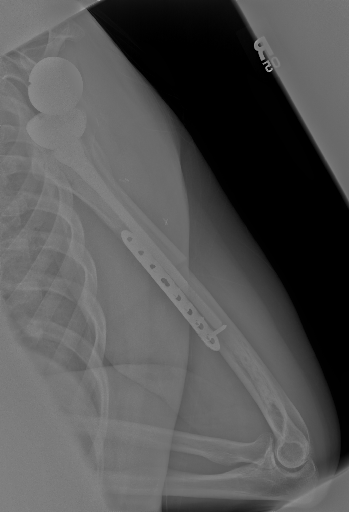implant: (109, 221, 227, 353)
